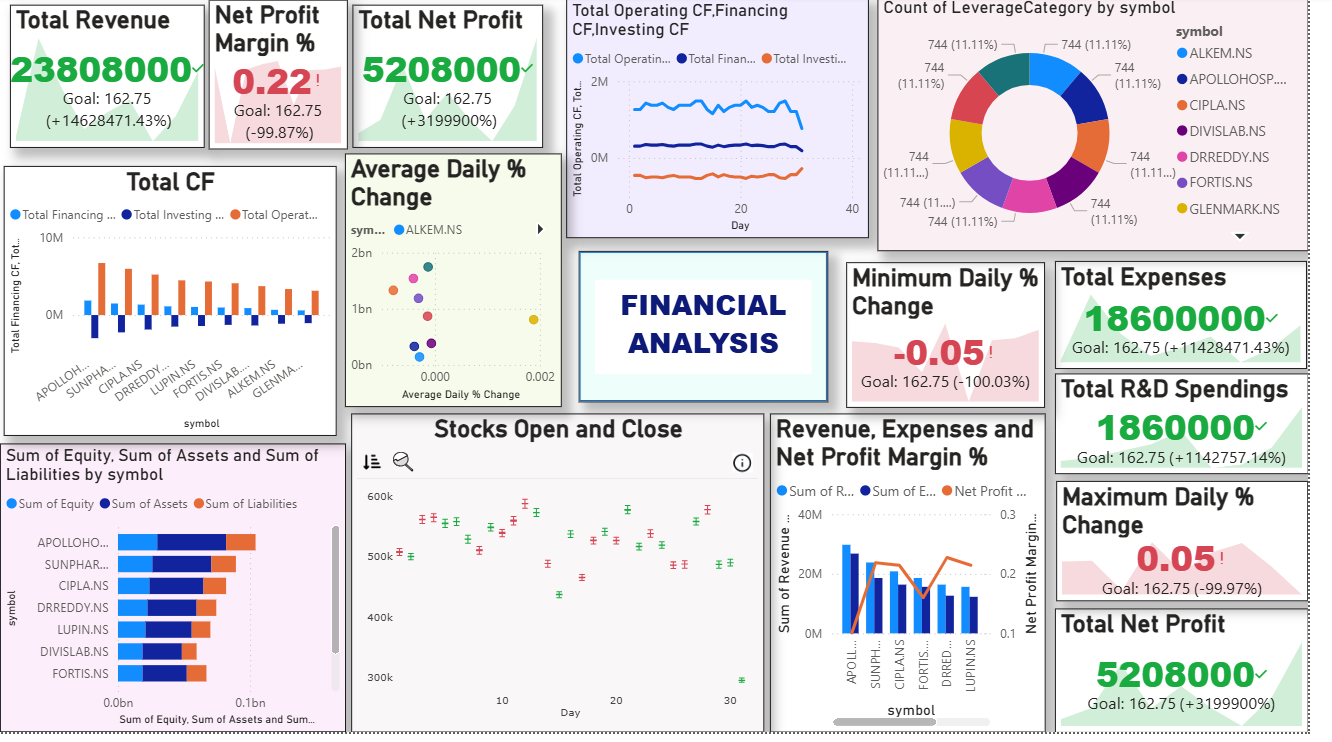

Layout of this report page (visuals, bound fields, positions):
{"tool":"powerbi","page":{"name":"Page 2","canvas":[1280,720],"ordinal":1},"visuals":[{"type":"kpi","title":"Total Revenue","fields":{"Indicator":["Query1.Total Revenue"],"TrendLine":["Query1.symbol"],"Goal":["Sum(Query1.ROI)"]},"box":[9.3,8,190.7,140],"z":0},{"type":"kpi","title":"Total Expenses ","fields":{"Indicator":["Query1.Total Expenses"],"TrendLine":["Query1.symbol"],"Goal":["Sum(Query1.ROI)"]},"box":[1032,258.7,246.7,105.3],"z":1000},{"type":"kpi","title":"Total Net Profit ","fields":{"Indicator":["Query1.Total Net Profit"],"TrendLine":["Query1.symbol"],"Goal":["Sum(Query1.ROI)"]},"box":[345.3,8,186.7,140],"z":2000},{"type":"kpi","title":"Net Profit Margin % ","fields":{"Indicator":["Query1.Net Profit Margin %"],"TrendLine":["Query1.symbol"],"Goal":["Sum(Query1.ROI)"]},"box":[204,4,136,146.7],"z":3000},{"type":"lineClusteredColumnComboChart","title":"Revenue, Expenses and Net Profit Margin % ","fields":{"Category":["Query1.symbol"],"Y2":["Query1.Net Profit Margin %"],"Y":["Sum(Query1.Revenue)","Sum(Query1.Expenses)"]},"box":[753.3,408,269.3,312],"z":4000},{"type":"barChart","fields":{"Category":["Query1.symbol"],"Y":["Sum(Query1.Equity)","Sum(Query1.Assets)","Sum(Query1.Liabilities)"]},"box":[0,437.3,338.7,282.7],"z":5000},{"type":"clusteredColumnChart","title":"Total CF","fields":{"Category":["Query1.symbol"],"Y":["Query1.Total Financing CF","Query1.Total Investing CF","Query1.Total Operating CF"]},"box":[4,166.7,325.3,264],"z":6000},{"type":"lineChart","title":"Total Operating CF,Financing CF,Investing CF ","fields":{"Y":["Query1.Total Operating CF","Query1.Total Financing CF","Query1.Total Investing CF"],"Category":["Query1.datetime.Variation.Date Hierarchy.Day"]},"box":[553.3,2.7,296,234.7],"z":7000},{"type":"kpi","title":"Total R&D Spendings ","fields":{"Indicator":["Query1.Total R&D Spendings"],"TrendLine":["Query1.symbol"],"Goal":["Sum(Query1.ROI)"]},"box":[1032,369.3,248,98.7],"z":8000},{"type":"kpi","title":"Total Net Profit","fields":{"Indicator":["Query1.Total Net Profit"],"TrendLine":["Query1.symbol"],"Goal":["Sum(Query1.ROI)"]},"box":[1032,598.7,248,121.3],"z":9000},{"type":"candlestickD7180D8F77642DBFBF61A4FEEE09DDBD","title":"Stocks Open and Close","fields":{"col_1":["Sum(Query1.open)"],"col_2":["Sum(Query1.high)"],"col_3":["Sum(Query1.low)"],"col_4":["Sum(Query1.close)"],"col_0":["Query1.datetime.Variation.Date Hierarchy.Day"]},"box":[343.1,408,404,312],"z":10000},{"type":"kpi","title":"Maximum Daily % Change ","fields":{"Indicator":["Query1.Maximum Daily % Change"],"TrendLine":["Query1.symbol"],"Goal":["Sum(Query1.ROI)"]},"box":[1033.3,474.7,246.7,117.3],"z":11000},{"type":"kpi","title":"Minimum Daily % Change ","fields":{"Indicator":["Query1.Minimum Daily % Change"],"TrendLine":["Query1.symbol"],"Goal":["Sum(Query1.ROI)"]},"box":[828,260,194.7,142.7],"z":12000},{"type":"scatterChart","title":"Average Daily % Change ","fields":{"X":["Query1.Average Daily % Change"],"Y":["Sum(Query1.volume)"],"Series":["Query1.symbol"]},"box":[337.3,154.7,212,248],"z":13000},{"type":"donutChart","fields":{"Category":["Query1.symbol"],"Y":["CountNonNull(Query1.LeverageCategory)"]},"box":[858.7,0,421.3,249.3],"z":14000},{"type":"shape","box":[566.7,249.3,244,148],"z":15000},{"type":"textbox","box":[582.7,277.3,212,92],"z":16000}]}

Visuals, with their boxes in screenshot pixels (x1, y1, x2, y2), scaled from the page's 1280x720 canvas onto the 1332x742 screenshot:
"Total Revenue" kpi: box=[10, 8, 208, 153]
"Total Expenses " kpi: box=[1074, 267, 1331, 375]
"Total Net Profit " kpi: box=[359, 8, 554, 153]
"Net Profit Margin % " kpi: box=[212, 4, 354, 155]
"Revenue, Expenses and Net Profit Margin % " lineClusteredColumnComboChart: box=[784, 420, 1064, 741]
barChart - Query1.symbol x Sum(Query1.Equity): box=[0, 451, 352, 741]
"Total CF" clusteredColumnChart: box=[4, 172, 343, 444]
"Total Operating CF,Financing CF,Investing CF " lineChart: box=[576, 3, 884, 245]
"Total R&D Spendings " kpi: box=[1074, 381, 1331, 482]
"Total Net Profit" kpi: box=[1074, 617, 1331, 741]
"Stocks Open and Close" candlestickD7180D8F77642DBFBF61A4FEEE09DDBD: box=[357, 420, 777, 741]
"Maximum Daily % Change " kpi: box=[1075, 489, 1331, 610]
"Minimum Daily % Change " kpi: box=[862, 268, 1064, 415]
"Average Daily % Change " scatterChart: box=[351, 159, 572, 415]
donutChart - Query1.symbol x CountNonNull(Query1.LeverageCategory): box=[894, 0, 1331, 257]
shape: box=[590, 257, 844, 409]
textbox: box=[606, 286, 827, 381]
